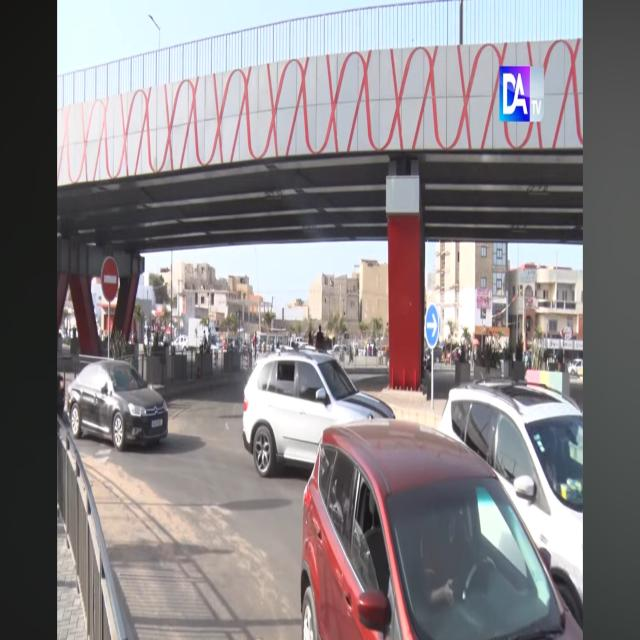particulier: (301, 417, 584, 640), (441, 383, 583, 618), (243, 348, 397, 480), (68, 359, 170, 453)
